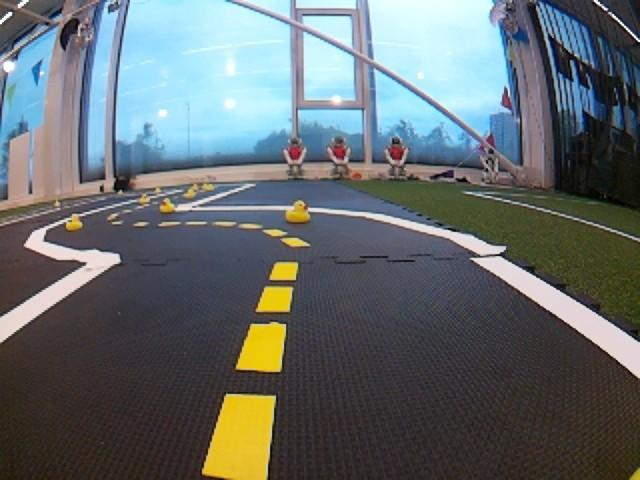Duckies: (285, 201, 310, 223), (65, 214, 82, 230), (159, 198, 175, 213), (185, 189, 195, 200), (203, 183, 215, 192), (138, 194, 149, 203), (192, 183, 200, 191), (154, 186, 162, 193), (54, 200, 60, 207), (118, 189, 123, 195)
